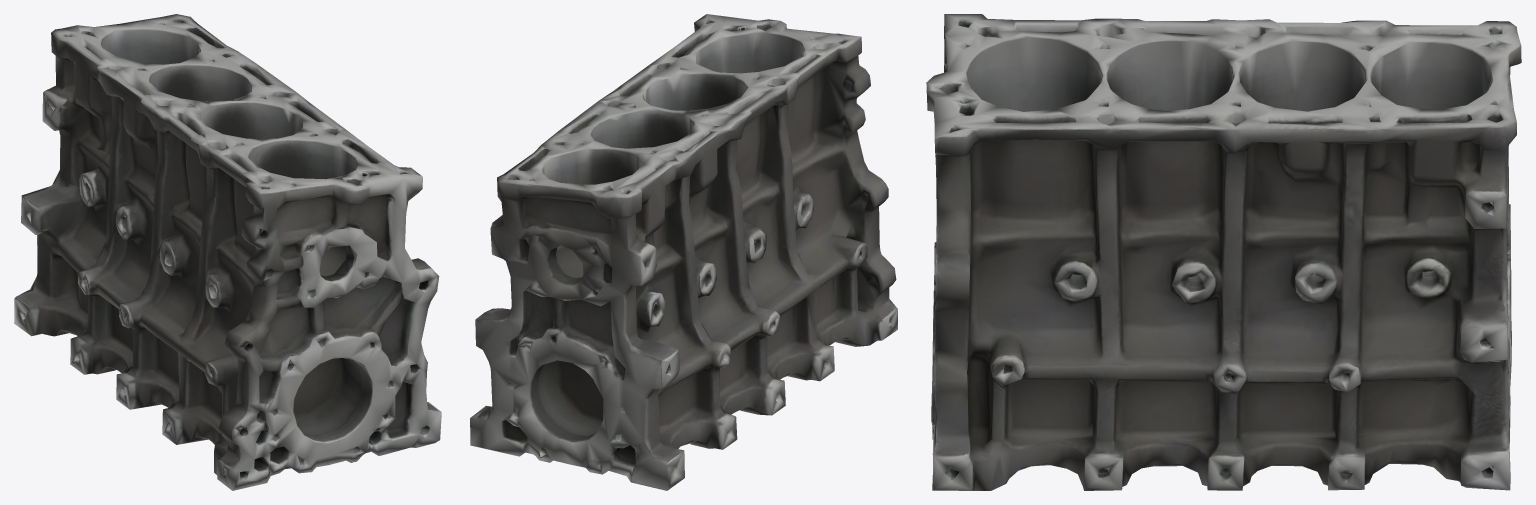
The model's file is cylinder-block.glb.
3 views of the same model, side by side, from view 1: azimuth 30°, elevation 25°; view 2: azimuth 150°, elevation 25°; view 3: azimuth 270°, elevation 25° (orthographic). The views are drawn at different scales.
Parts seen in each view (by area): view 1: tripo_node_9ce52ab2-2a85-463b-b535-1e3c42036616; view 2: tripo_node_9ce52ab2-2a85-463b-b535-1e3c42036616; view 3: tripo_node_9ce52ab2-2a85-463b-b535-1e3c42036616.
Boxes of the visible parts, <box> form: tripo_node_9ce52ab2-2a85-463b-b535-1e3c42036616: <box>14,14,441,490</box>; tripo_node_9ce52ab2-2a85-463b-b535-1e3c42036616: <box>470,14,897,490</box>; tripo_node_9ce52ab2-2a85-463b-b535-1e3c42036616: <box>926,14,1521,490</box>.
Size of the model in its own units: 0.5235 by 0.6875 by 1.
1 material, 1 textured.
